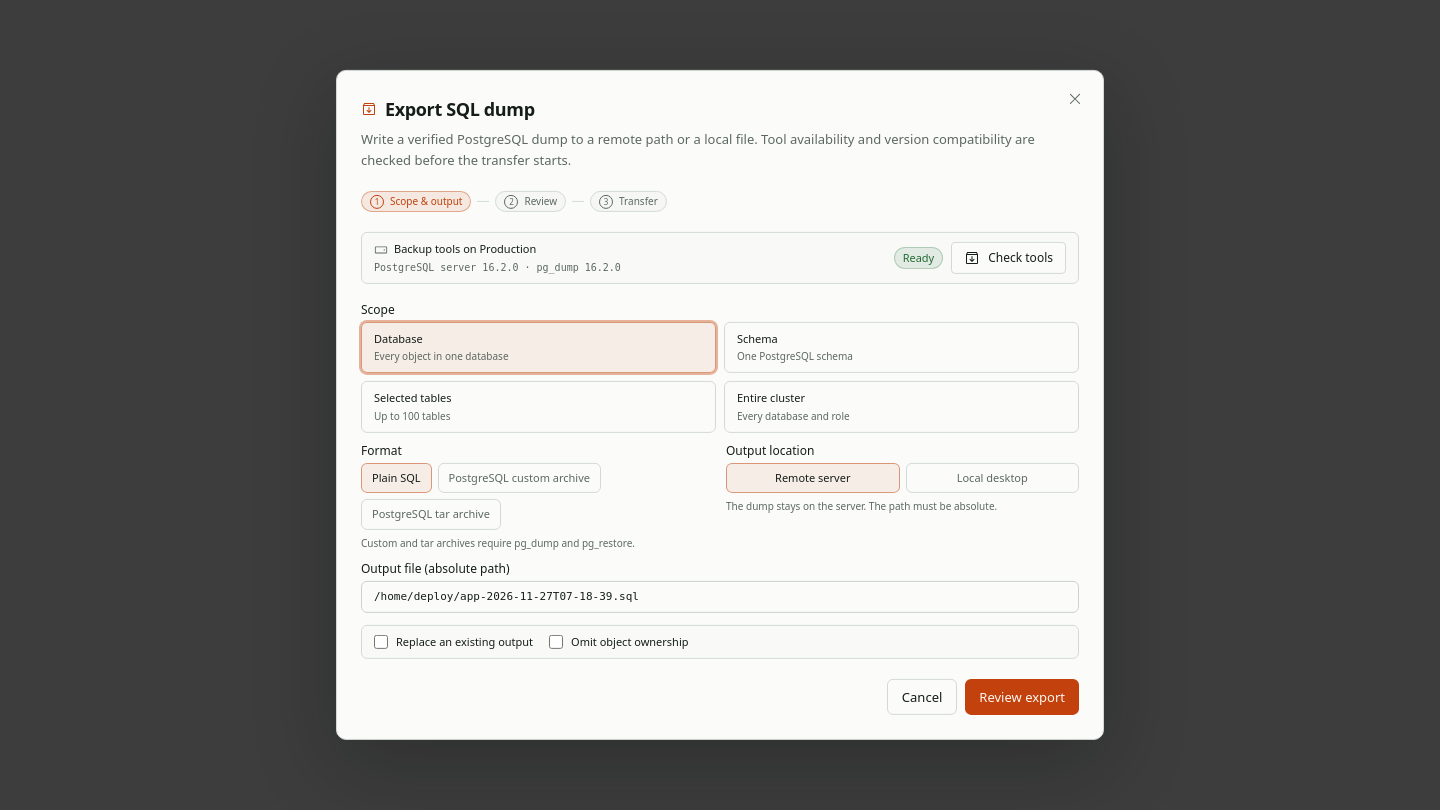
Test case: DatabaseDumpTransferDialog › cancels an in-flight dump and reports the destination as unchanged
This screenshot has width=1440, height=810.
Replace the text in the field labelled "Output file (absolute path)" with "/home/deploy/backups/app.sql" at (720, 597), box [361,581,1079,613]
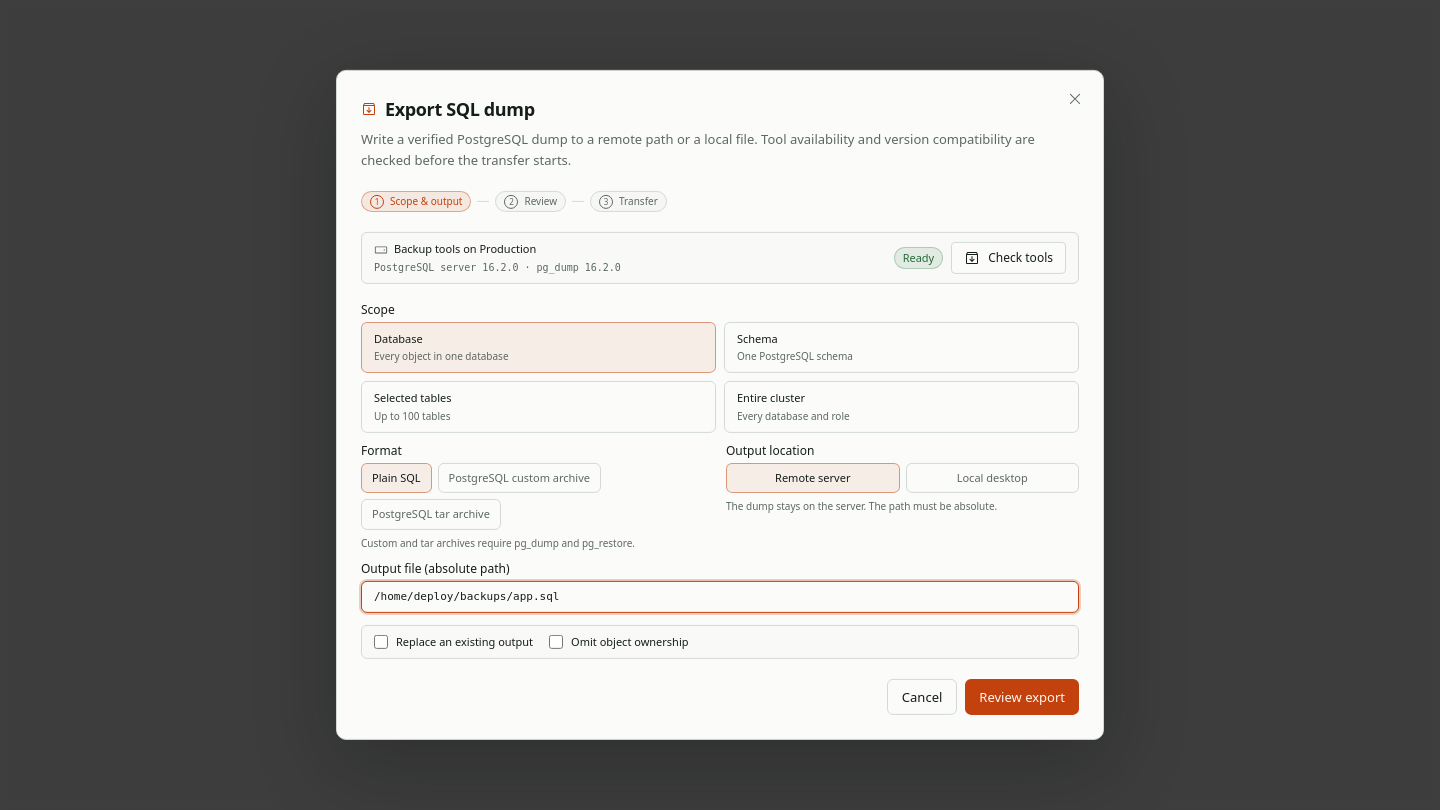
Click the button "Review export" at (1022, 697), box [965,679,1079,715]
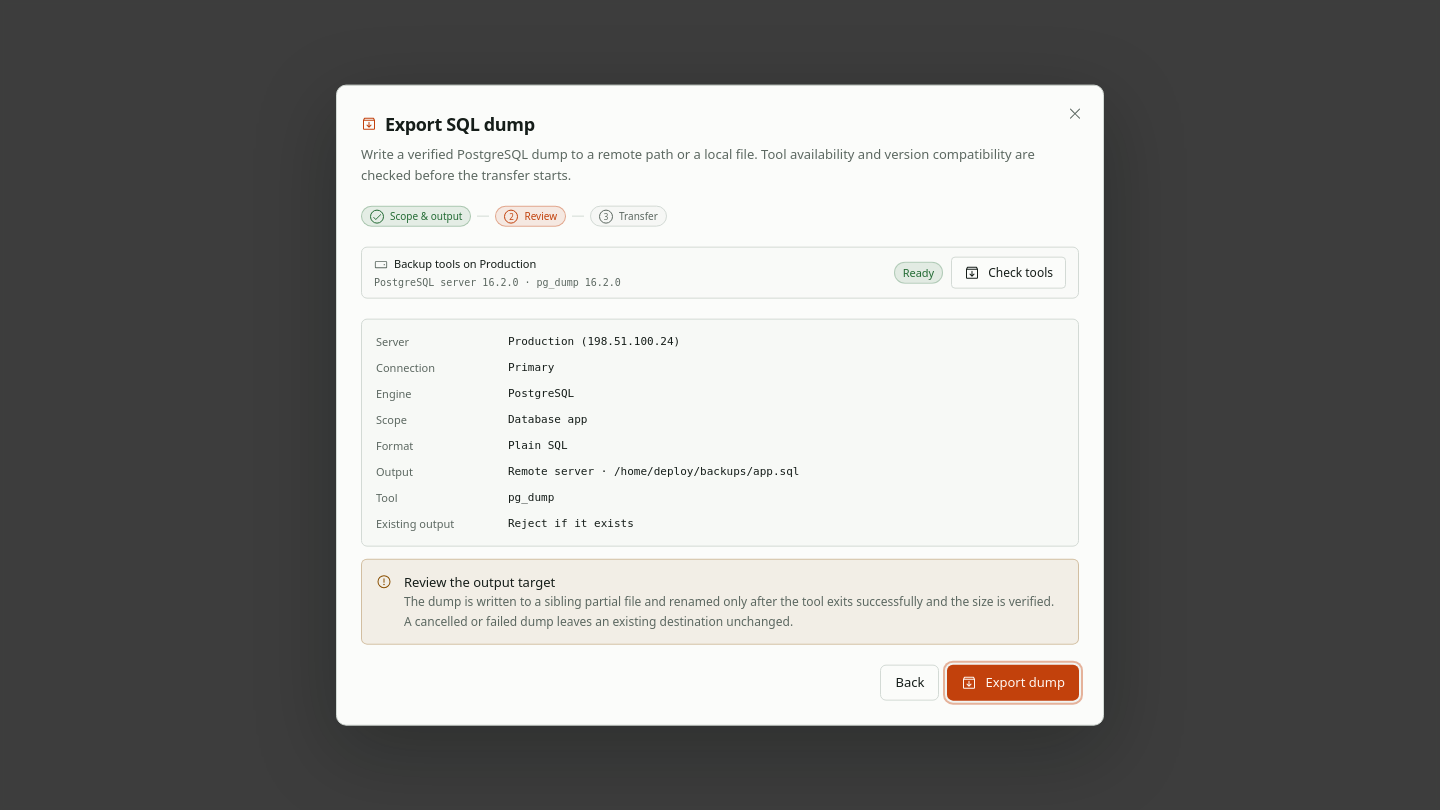
Click the button "Export dump" at (1013, 682), box [947,664,1079,700]
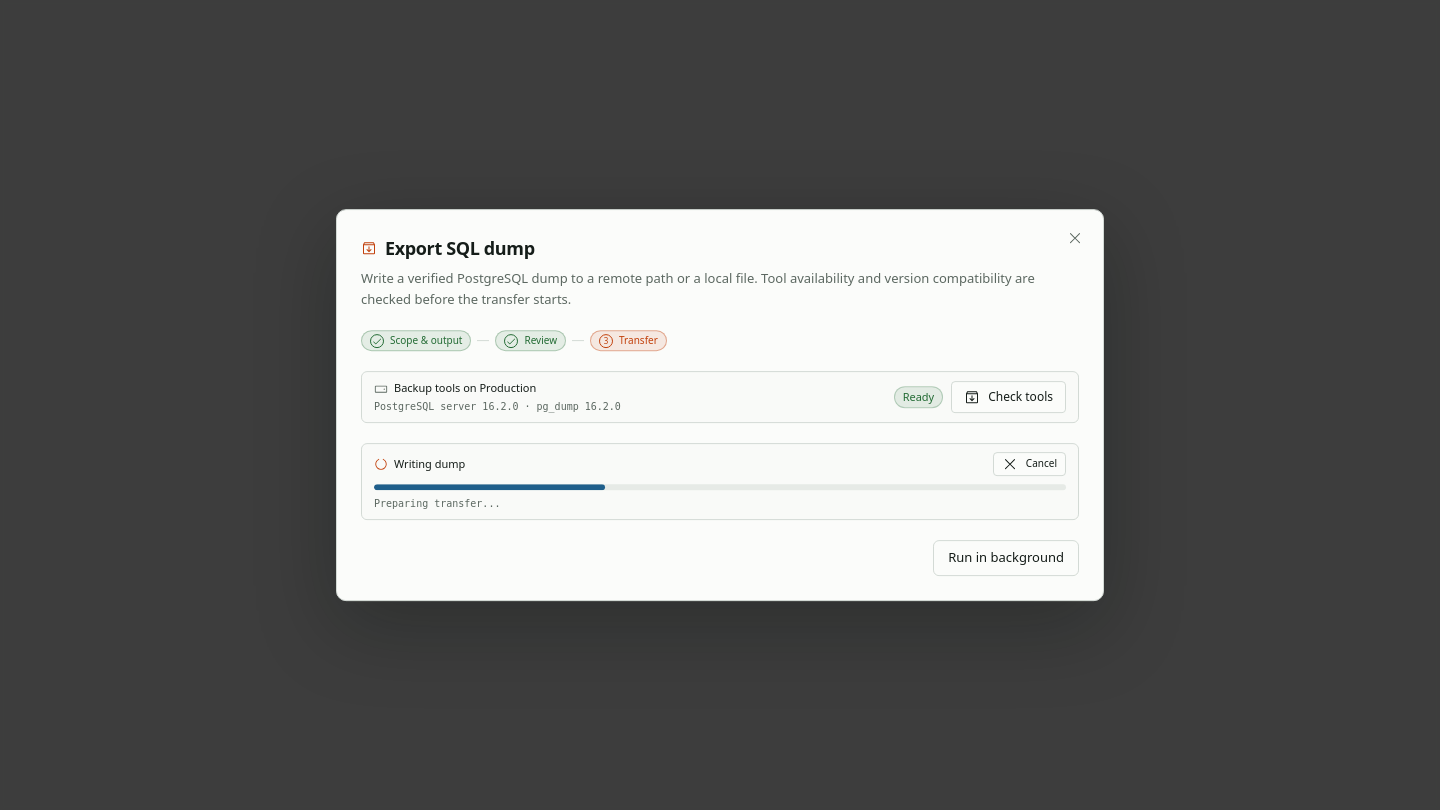
Click the button "Cancel" at (1029, 464), box [993,452,1066,476]
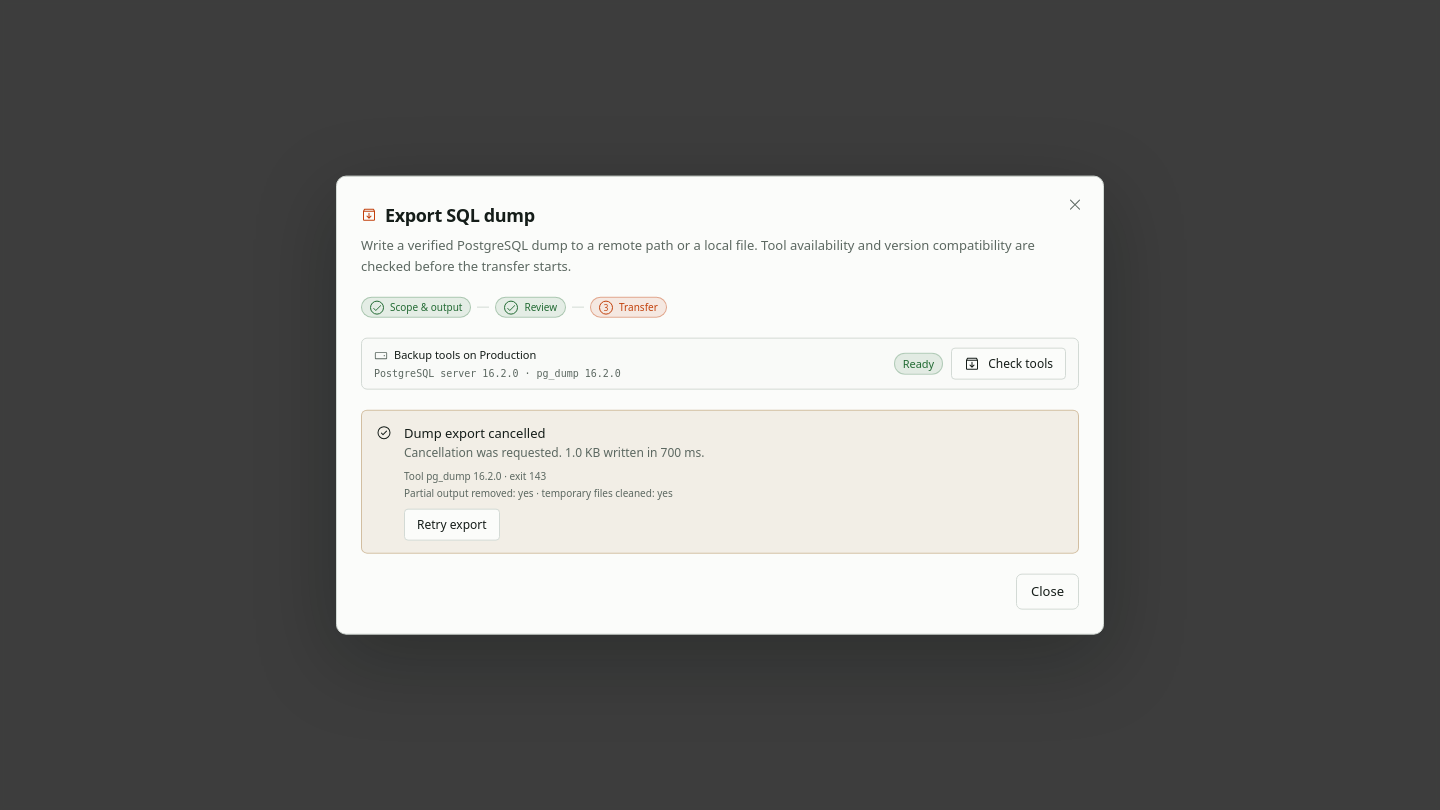
Check: the text "Dump export cancelled" is shown, box [404,423,546,441]
Check: the text "Cancellation was requested. 1.0 KB written in 700 ms." is shown, box [404,443,704,460]
Check: the text "Partial output removed: yes · temporary files cleaned: yes" is shown, box [404,485,673,499]
